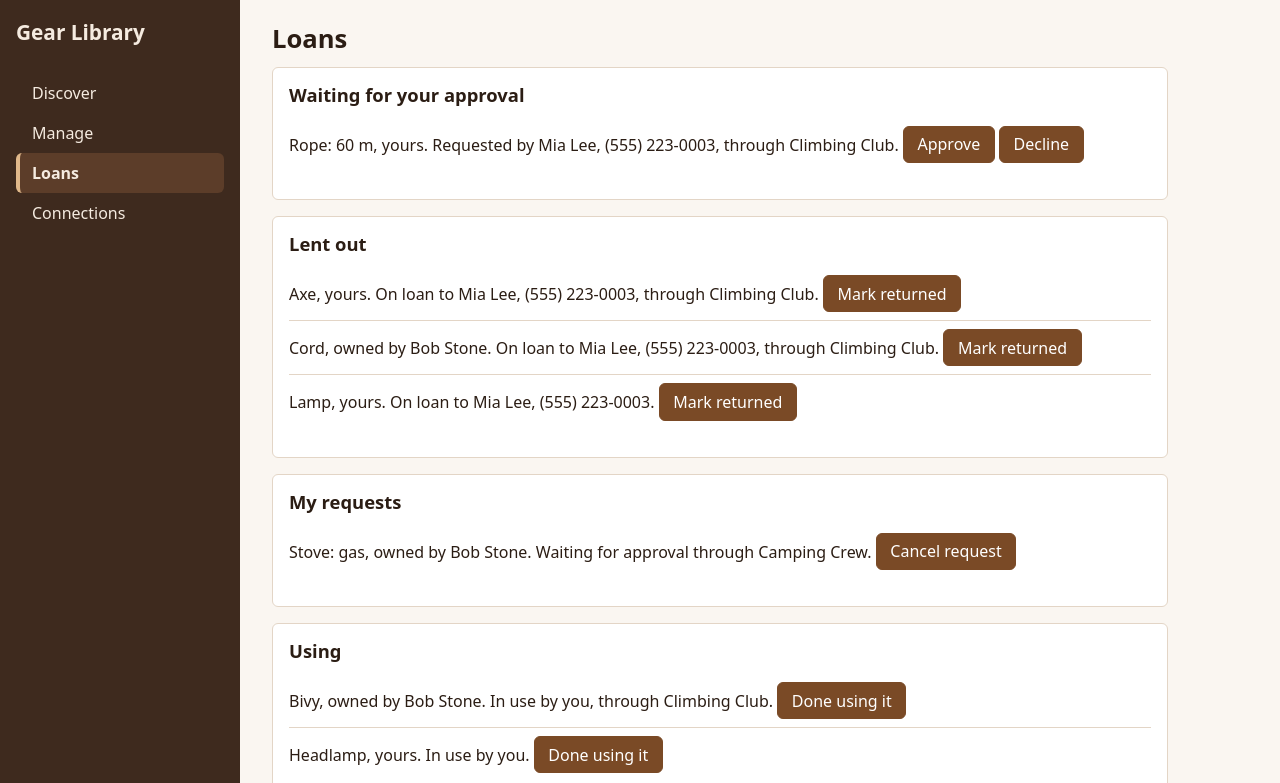
waiting for your approval › sends approve through the loan inventory with the requester it showed
Check: the heading "Loans" is shown, box [272,21,347,56]
Click the button with aria-label "Approve: Rope" at [949, 144], box [903,126,995,163]
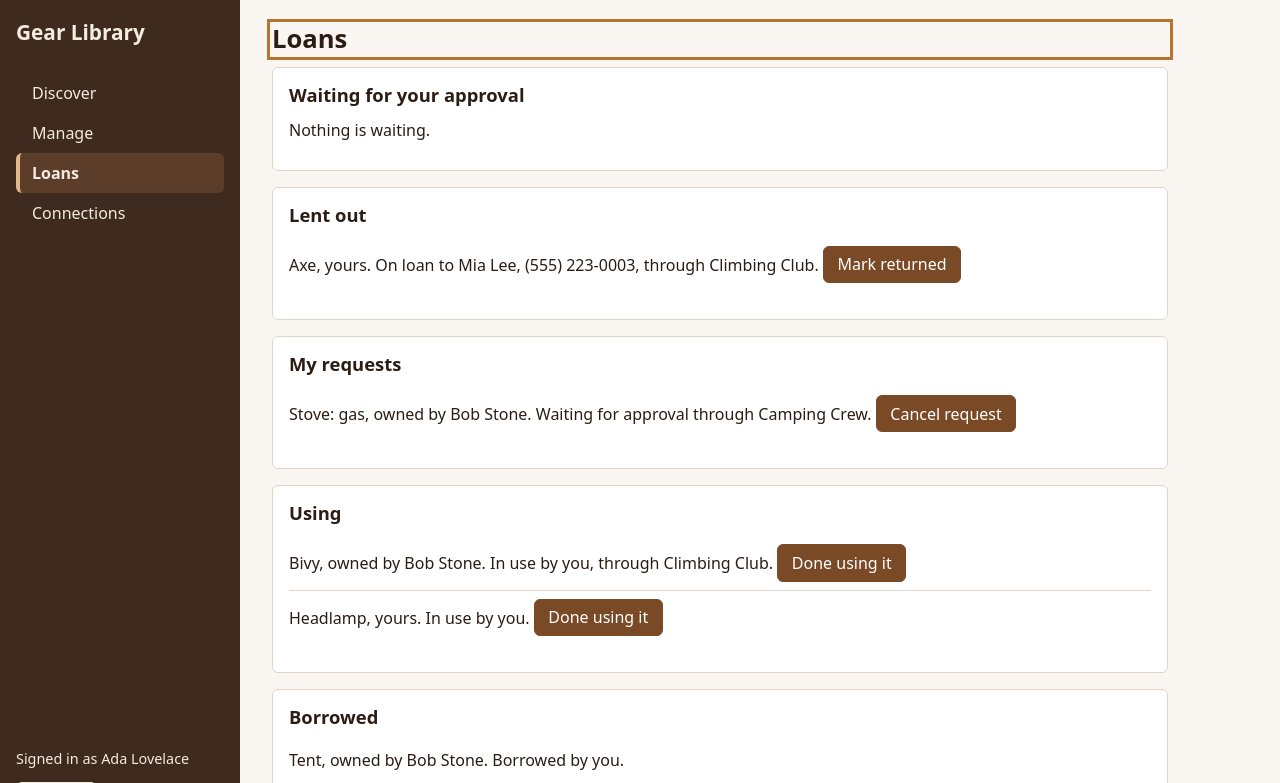
Check: the text "Nothing is waiting." is shown, box [289,119,430,141]
